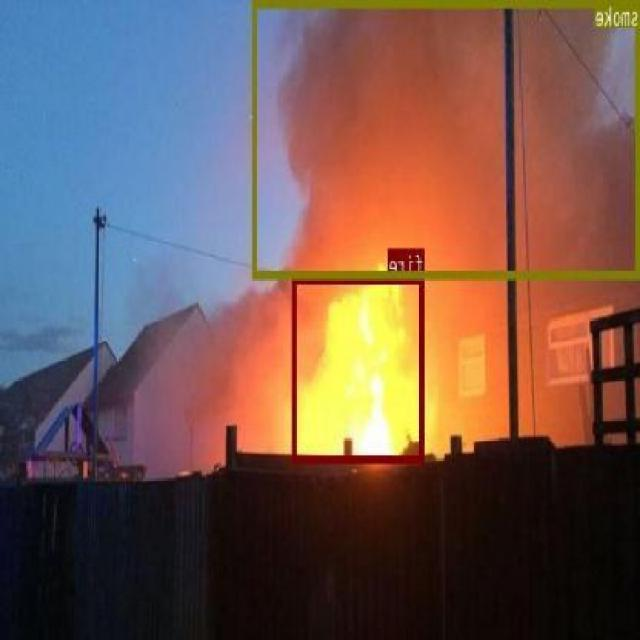Fire: (266, 285, 432, 462)
Smoke: (250, 0, 640, 285)
